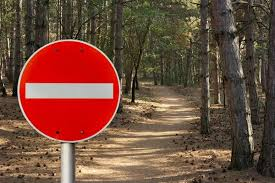noentry: (16, 33, 132, 154)
